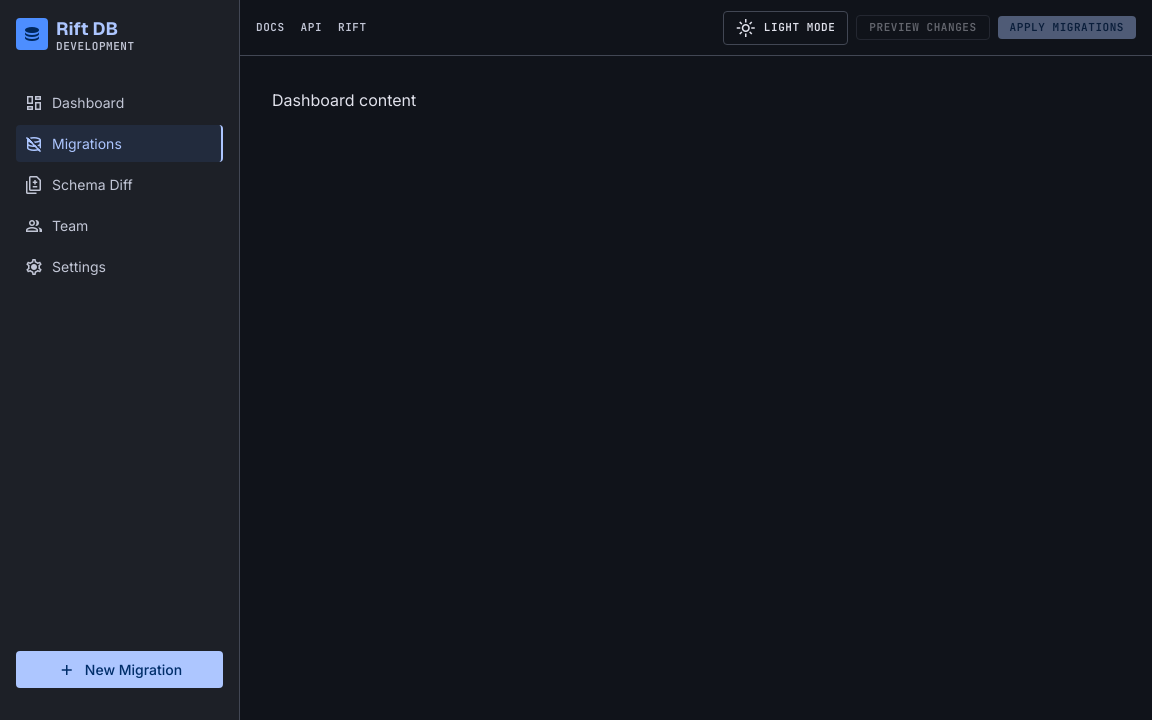
it: AppShell › creates a migration from the sidebar button and navigates to the detail page
The width and height of the screenshot is (1152, 720).
Click the button "New Migration".
click(120, 670)  # box [16,651,223,688]
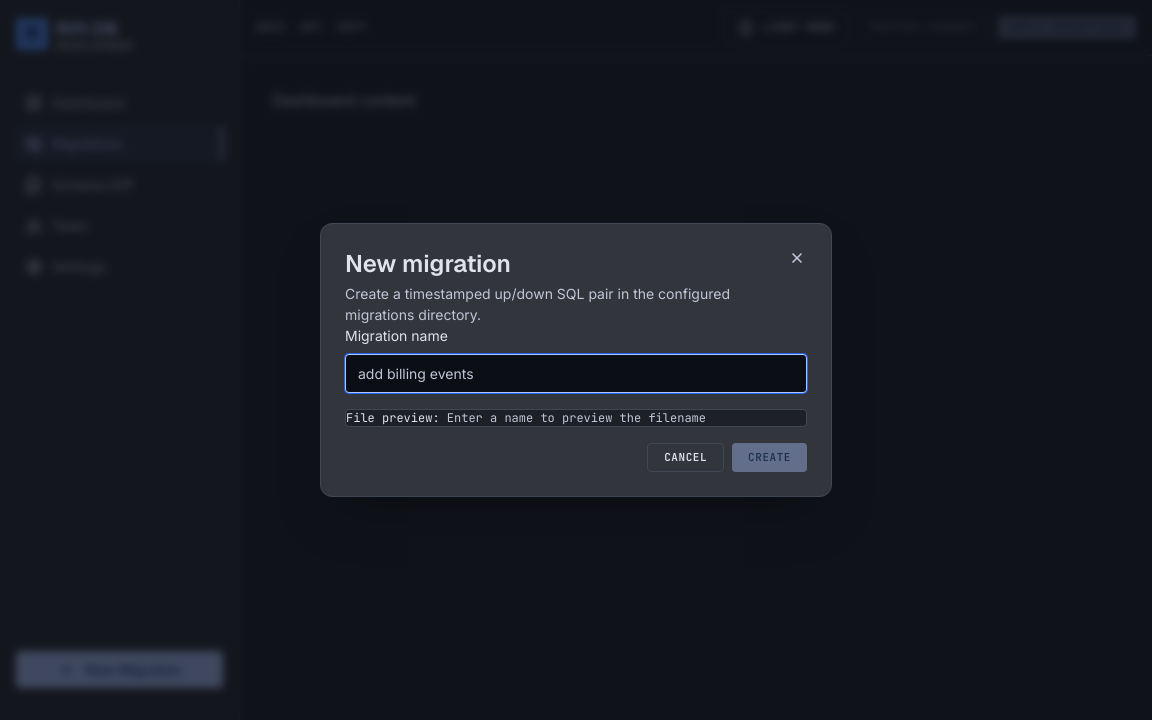
Type "Add Billing Events" into the field labelled "Migration name".
click(576, 373); type("Add Billing Events")  # box [345,354,807,393]
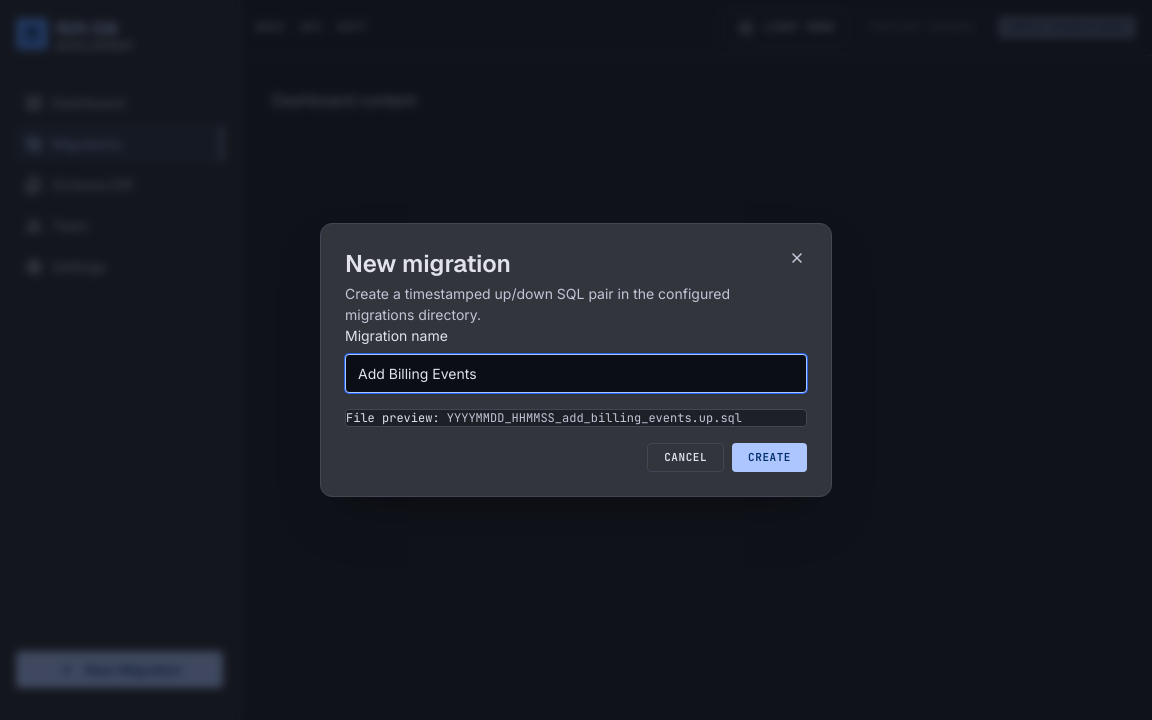
Result: the text "YYYYMMDD_HHMMSS_add_billing_events.up.sql" is shown at [447,410,742,426]
Click the button "Create".
click(770, 458)  # box [732,444,807,472]
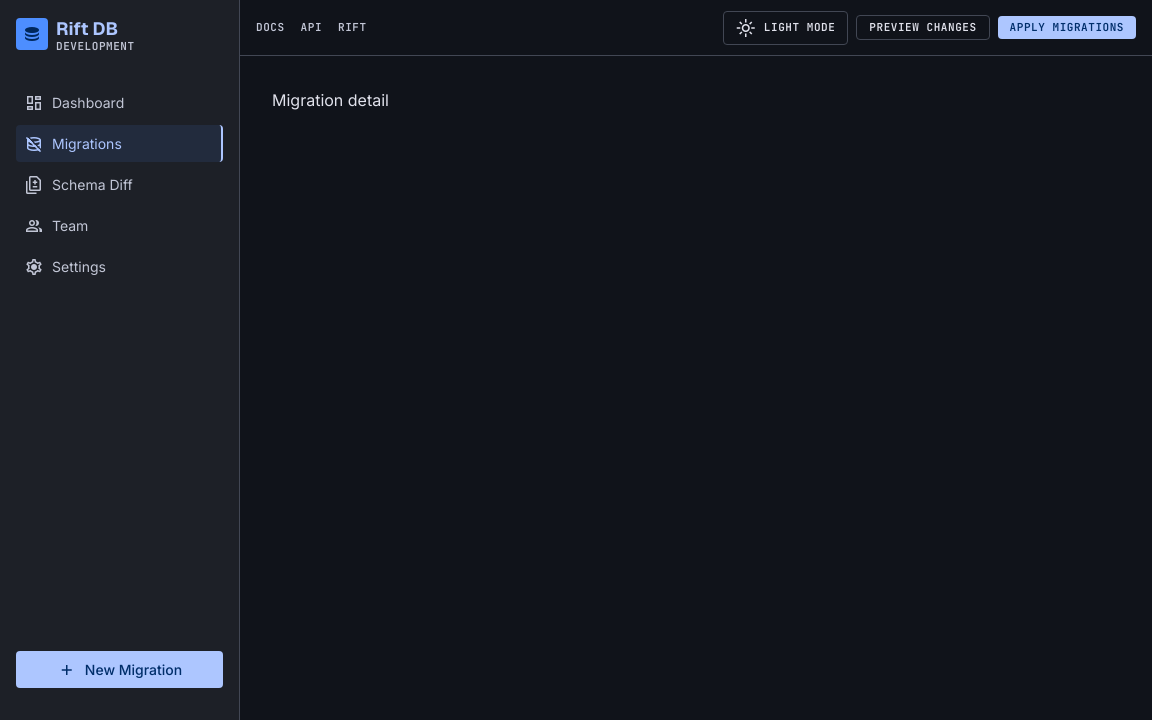
Result: the text "Migration detail" is shown at [272,90,389,110]
